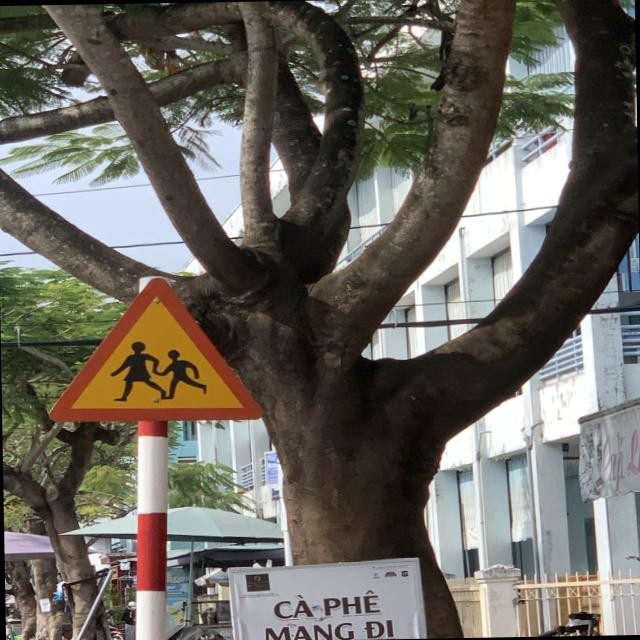Vong_Xuyen: (46, 275, 266, 424)
